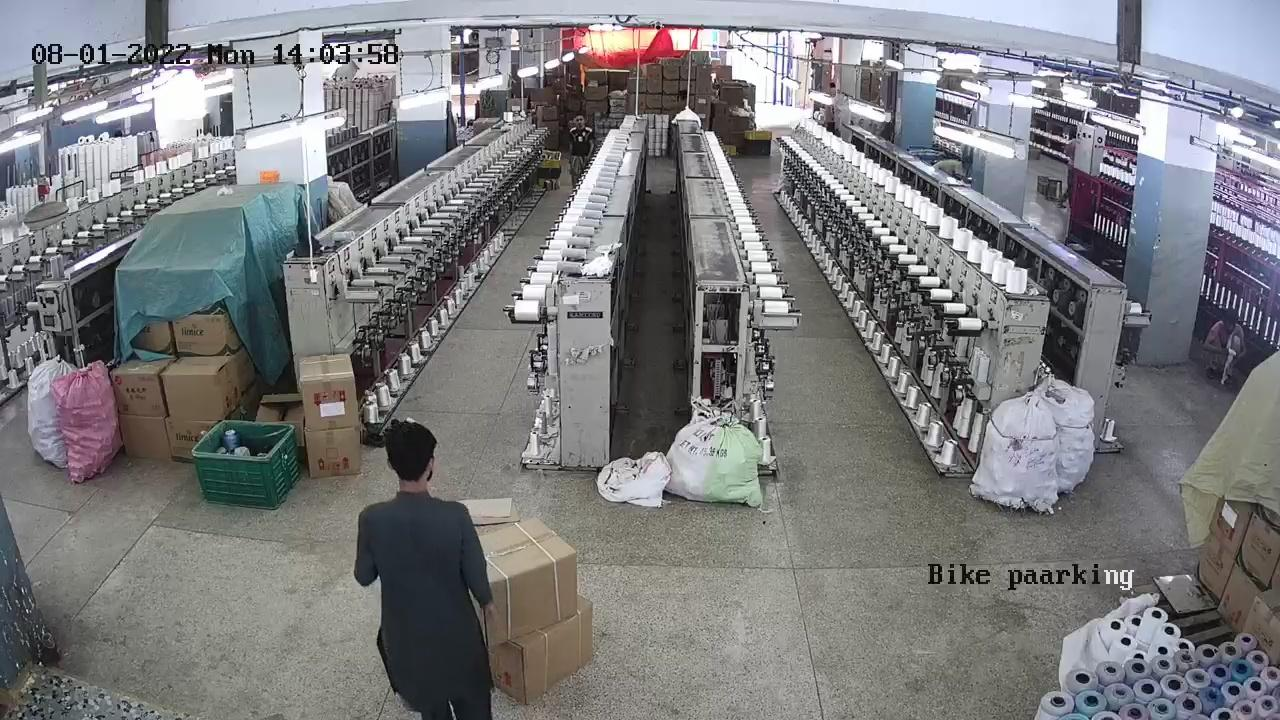person: (364, 427, 500, 720), (559, 112, 597, 170)
